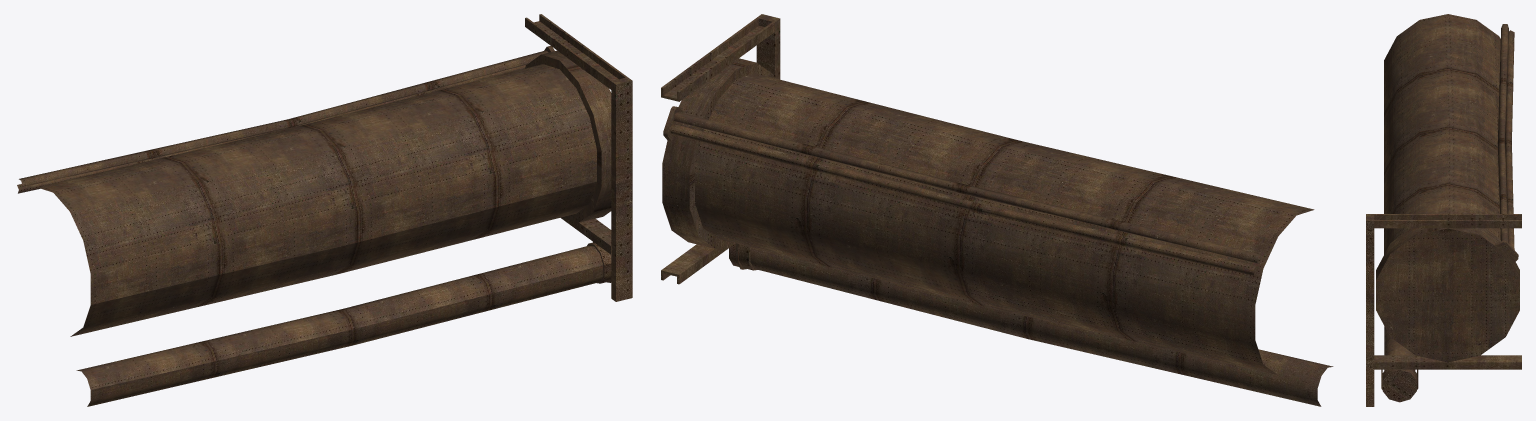
File: pipeset32d_128_001a.glb
The picture shows the model from 3 angles, left to right: view 1: azimuth 30°, elevation 25°; view 2: azimuth 150°, elevation 25°; view 3: azimuth 270°, elevation 25°; orthographic projection. The views are drawn at different scales.
Parts seen in each view (by area): view 1: 0_pipeset_metal; view 2: 0_pipeset_metal; view 3: 0_pipeset_metal.
Part boxes in pixels (x1,y1,x2,y2): 0_pipeset_metal: (17, 14, 632, 406); 0_pipeset_metal: (661, 14, 1333, 406); 0_pipeset_metal: (1366, 14, 1521, 406).
Bounding box in the file's own units: 3.25 × 1.27 × 0.9654.
Materials: 1 (1 with a texture image).
